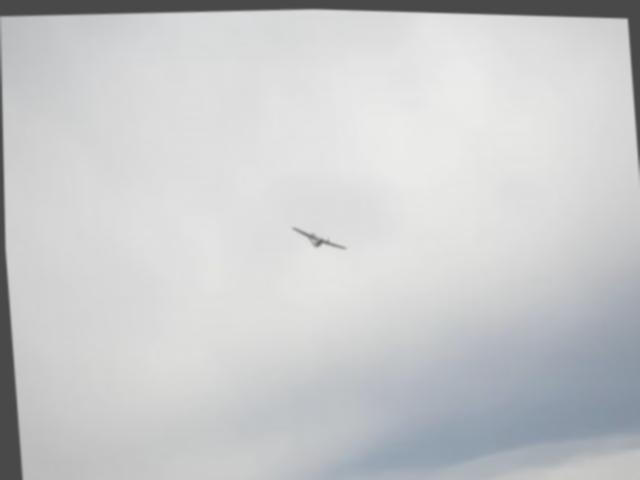uav: (288, 215, 348, 259)
